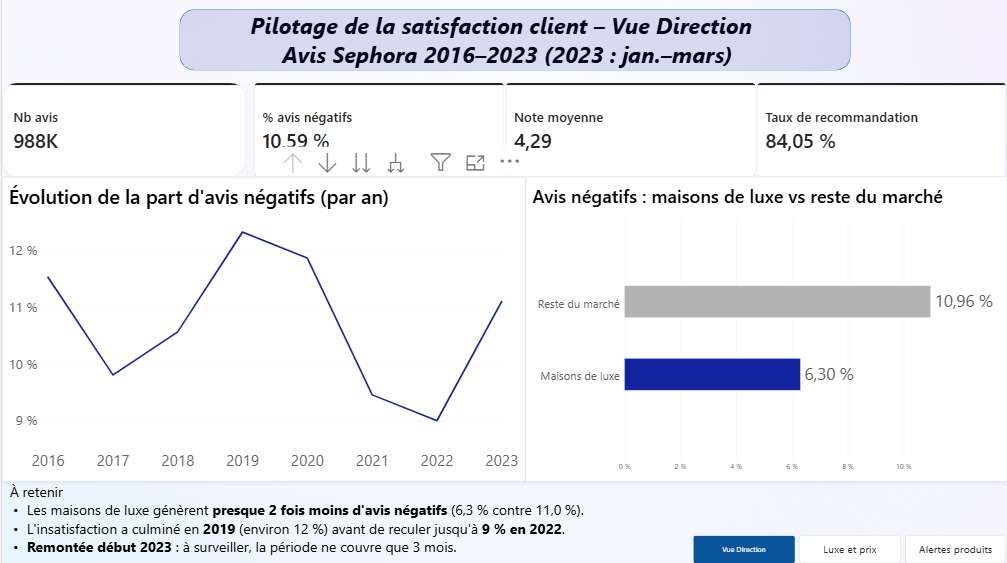

The dashboard page shown, as its layout file describes it:
{"tool":"powerbi","page":{"name":"Vue Direction ","canvas":[1920,1080],"ordinal":0},"visuals":[{"type":"cardVisual","fields":{"Data":["v_kpi_mensuel.Nb avis"]},"box":[0,161.9,465.3,179.6],"z":0},{"type":"cardVisual","fields":{"Data":["v_kpi_mensuel.% avis négatifs","v_kpi_mensuel.Note moyenne","v_kpi_mensuel.Taux de recommandation"]},"box":[483,161.9,1436.5,179.6],"z":1000},{"type":"lineChart","title":"Évolution de la part d''avis négatifs (par an)","fields":{"Category":["v_kpi_mensuel.mois.Variation.Hiérarchie de dates.Année","v_kpi_mensuel.mois.Variation.Hiérarchie de dates.Trimestre","v_kpi_mensuel.mois.Variation.Hiérarchie de dates.Mois","v_kpi_mensuel.mois.Variation.Hiérarchie de dates.Jour"],"Y":["v_kpi_mensuel.% avis négatifs"]},"box":[0,341.4,999,581.7],"z":2000},{"type":"clusteredBarChart","title":"Avis négatifs : maisons de luxe vs reste du marché ","fields":{"Category":["v_luxe_vs_marche.univers"],"Y":["v_luxe_vs_marche.% négatifs univers"]},"box":[999,341.4,920.6,581.7],"z":3000},{"type":"textbox","box":[140.8,21.5,1636.3,136.6],"z":4000},{"type":"textbox","box":[0,923.1,1325.2,156.8],"z":5000},{"type":"pageNavigator","box":[1320.1,1026.8,599.4,53.1],"z":5001},{"type":"shape","box":[338.8,21.5,1281.1,116.9],"z":5002}]}

Visuals, with their boxes in screenshot pixels (x1, y1, x2, y2), scaled from the page's 1920x1080 canvas onto the 1007x563 screenshot:
cardVisual - v_kpi_mensuel.Nb avis: region(0, 84, 244, 178)
cardVisual - v_kpi_mensuel.% avis négatifs x v_kpi_mensuel.Note moyenne: region(253, 84, 1006, 178)
"Évolution de la part d''avis négatifs (par an)" lineChart: region(0, 178, 524, 481)
"Avis négatifs : maisons de luxe vs reste du marché " clusteredBarChart: region(524, 178, 1006, 481)
textbox: region(74, 11, 932, 82)
textbox: region(0, 481, 695, 562)
pageNavigator: region(692, 535, 1006, 562)
shape: region(178, 11, 850, 72)
